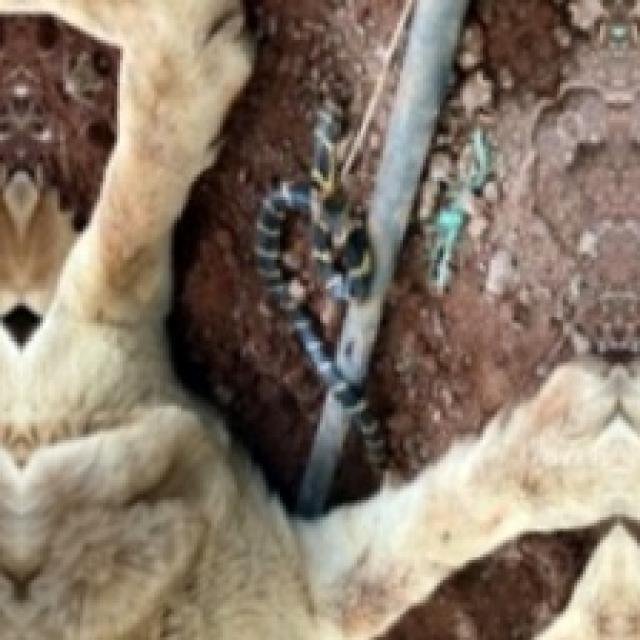king cobra: (294, 0, 466, 514)
